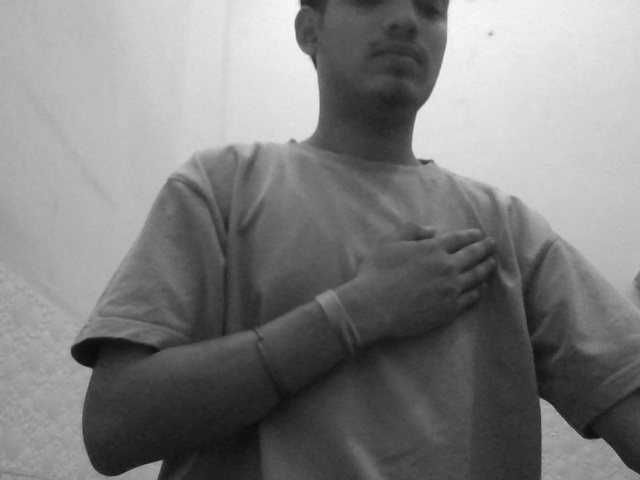Sorry: (334, 212, 538, 344)
